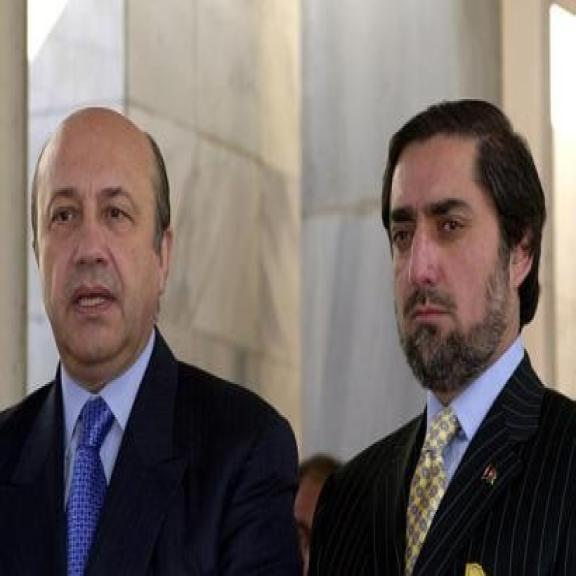face: (388, 149, 540, 381), (34, 129, 174, 372)
